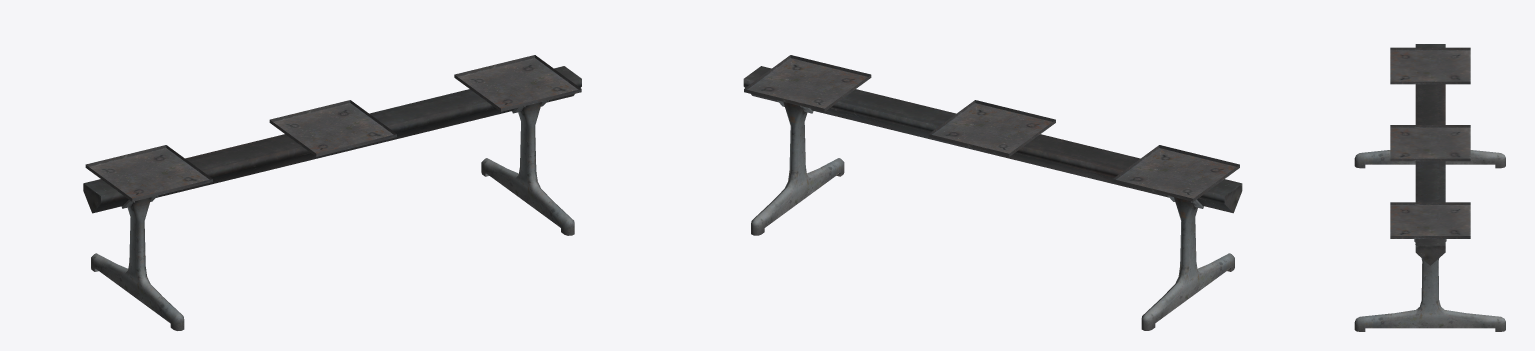
Rendered from 126_Bench3.fbx.
3 renders of one model, left to right at view 1: azimuth 30°, elevation 25°; view 2: azimuth 150°, elevation 25°; view 3: azimuth 270°, elevation 25°, orthographic. The views are drawn at different scales.
Visible parts, largest first — view 1: LOD_1_Group_0_Sub_1__sm30_127_BenchB01A_A_Mat; view 2: LOD_1_Group_0_Sub_1__sm30_127_BenchB01A_A_Mat; view 3: LOD_1_Group_0_Sub_1__sm30_127_BenchB01A_A_Mat.
Boxes of the visible parts, bbox=[...] form: LOD_1_Group_0_Sub_1__sm30_127_BenchB01A_A_Mat: bbox=[83, 55, 581, 330]; LOD_1_Group_0_Sub_1__sm30_127_BenchB01A_A_Mat: bbox=[743, 55, 1242, 330]; LOD_1_Group_0_Sub_1__sm30_127_BenchB01A_A_Mat: bbox=[1354, 44, 1505, 331].
Size of the model in its own units: 1.54 by 0.3983 by 0.5086.
